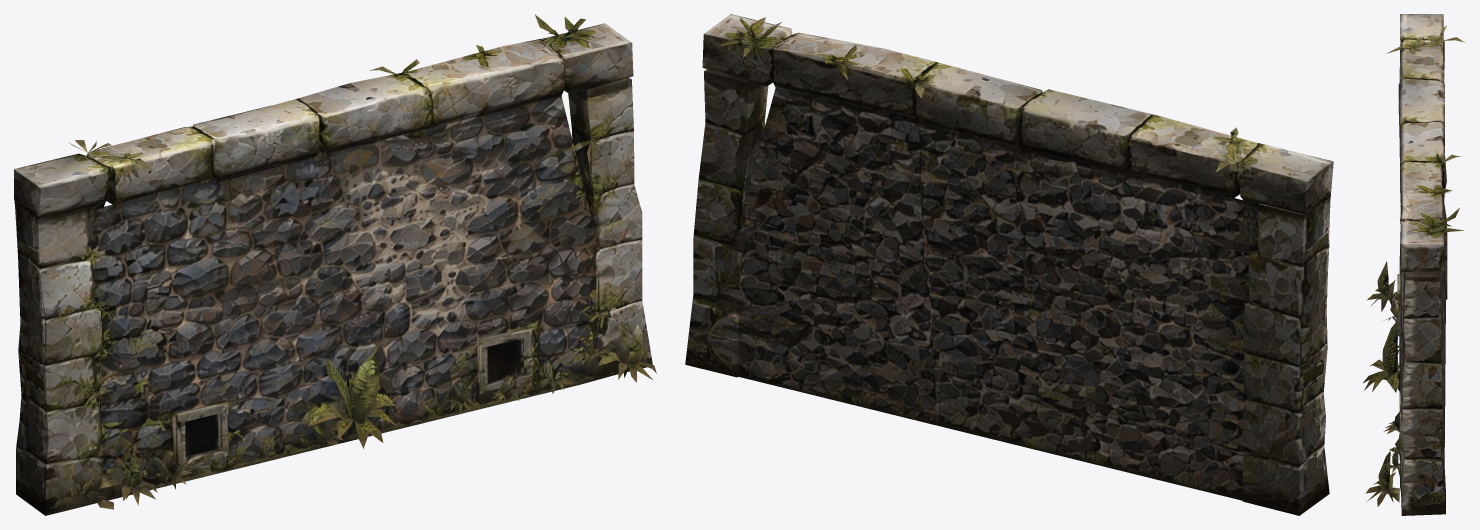
Rendered from act1_kit_v1_flint_retaining_wall.glb.
The picture shows the model from 3 angles, left to right: view 1: azimuth 30°, elevation 25°; view 2: azimuth 150°, elevation 25°; view 3: azimuth 270°, elevation 25°; orthographic projection. The views are drawn at different scales.
Parts seen in each view (by area): view 1: A21_2_flint_retaining_wall; view 2: A21_2_flint_retaining_wall; view 3: A21_2_flint_retaining_wall.
Part boxes in pixels (x1,y1,x2,y2): A21_2_flint_retaining_wall: (14,14,656,515); A21_2_flint_retaining_wall: (685,14,1333,515); A21_2_flint_retaining_wall: (1362,14,1464,515).
Size of the model in its own units: 0.998 by 0.5406 by 0.1822.
Materials: 1 (1 with a texture image).
